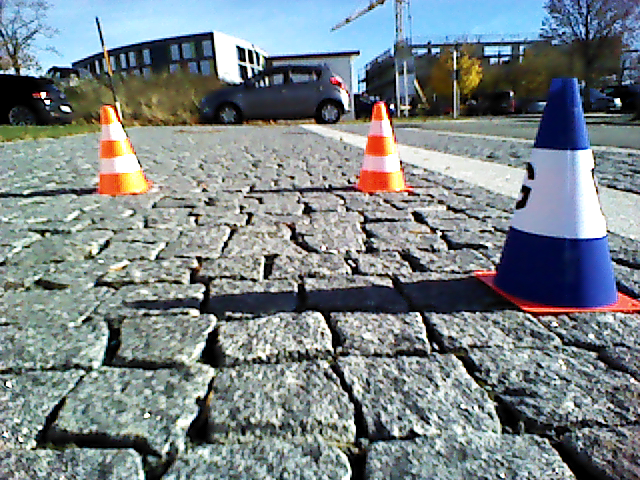bluecone: (501, 77, 617, 302)
orangeconesmall: (97, 106, 149, 196), (360, 104, 409, 194)
